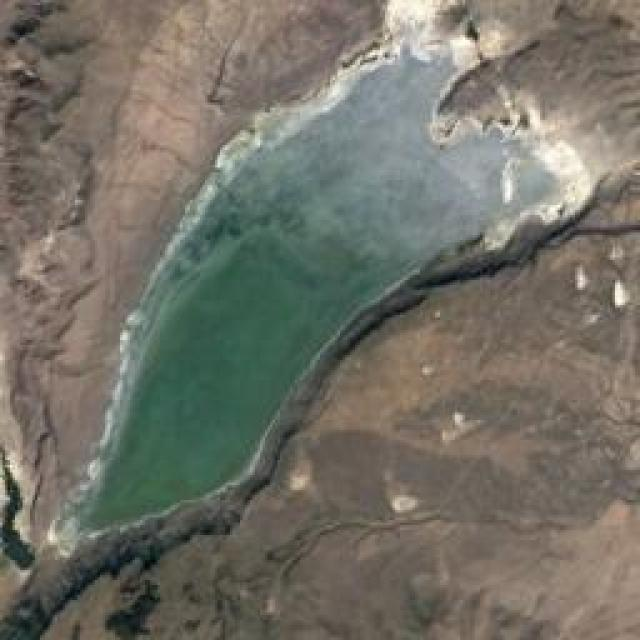Desert: (0, 0, 638, 638)
Lake: (43, 58, 611, 556)
